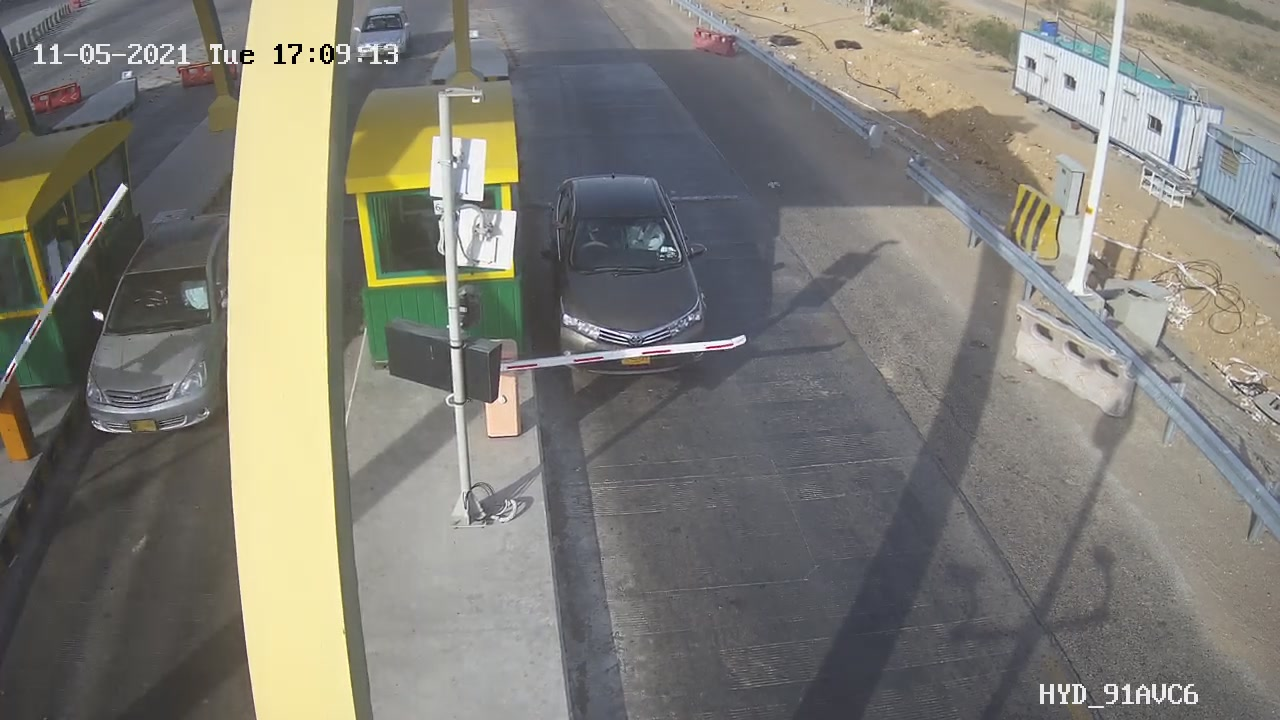F1: (526, 153, 730, 403)
